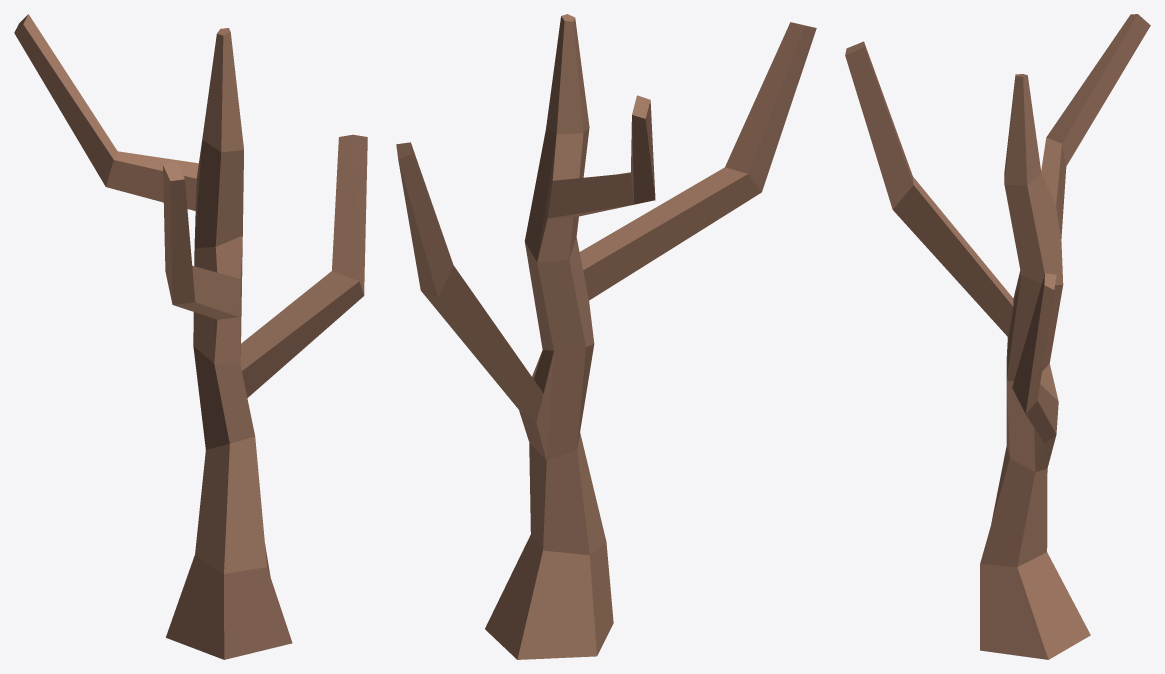
Rendered from tree.obj.
3 views of the same model, side by side, from view 1: azimuth 30°, elevation 25°; view 2: azimuth 150°, elevation 25°; view 3: azimuth 270°, elevation 25° (orthographic). The views are drawn at different scales.
Visible parts, largest first — view 1: Cylinder; view 2: Cylinder; view 3: Cylinder.
Boxes of the visible parts, x1=… form: Cylinder: x1=14, y1=14, x2=367, y2=659; Cylinder: x1=396, y1=14, x2=816, y2=659; Cylinder: x1=845, y1=14, x2=1150, y2=659.
Size of the model in its own units: 13.09 by 24.95 by 12.41.
1 material, 1 textured.
